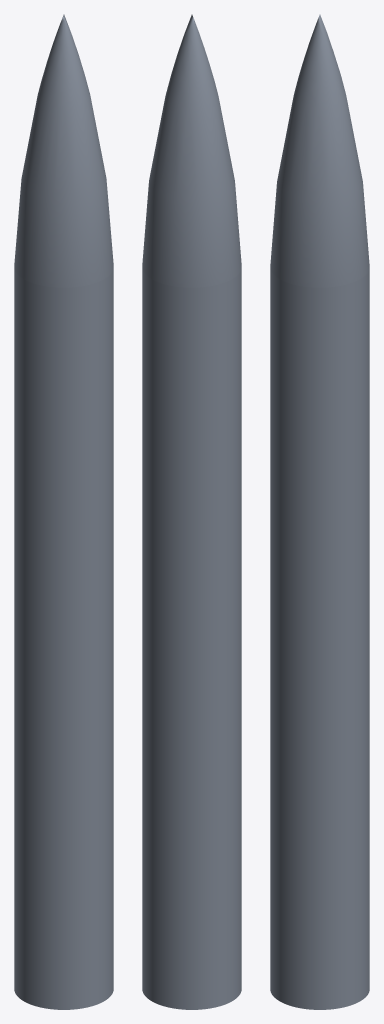
Rendered from step-2-preview-1.glb.
3 renders of one model, left to right at view 1: azimuth 30°, elevation 25°; view 2: azimuth 150°, elevation 25°; view 3: azimuth 330°, elevation 25°, orthographic.
Visible parts, largest first — view 1: preview_0, preview_8; view 2: preview_0, preview_8; view 3: preview_0, preview_8.
Boxes of the visible parts, x1,y1,x2,y2 form: preview_0: (14,269,113,1009); preview_8: (14,14,113,287); preview_0: (142,269,241,1009); preview_8: (142,14,241,287); preview_0: (270,269,369,1009); preview_8: (270,14,369,287).
Size of the model in its own units: 0.025 by 0.27 by 0.025.
